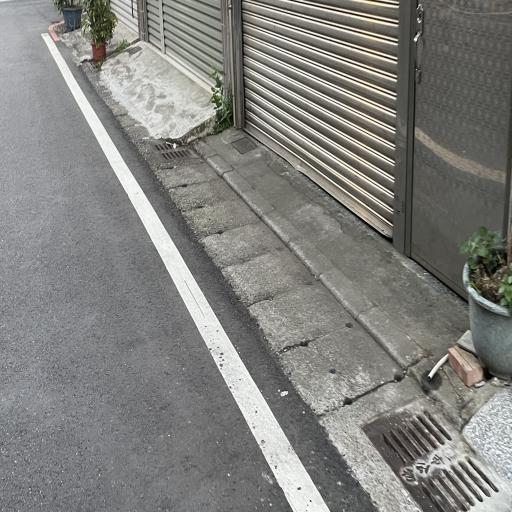car: (53, 50, 329, 512)
redline: (49, 15, 66, 40)
